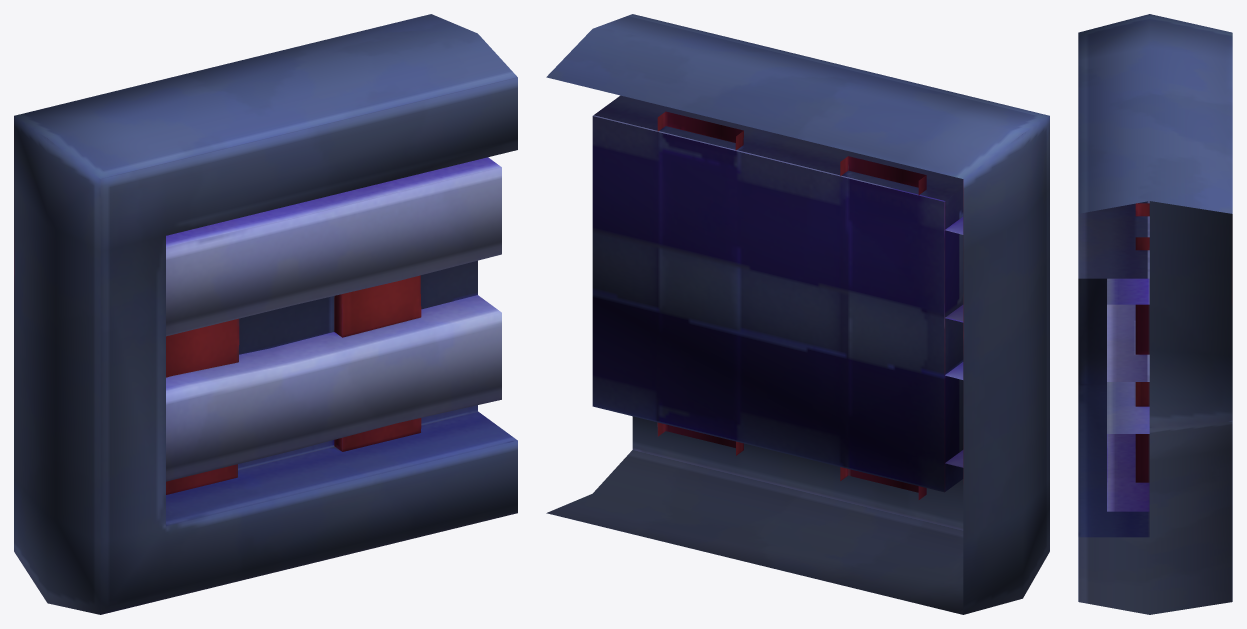
The model's file is LP_LaserRailStart.fbx.
3 renders of one model, left to right at view 1: azimuth 30°, elevation 25°; view 2: azimuth 150°, elevation 25°; view 3: azimuth 270°, elevation 25°, orthographic. The views are drawn at different scales.
Parts seen in each view (by area): view 1: LP_LaserRailStart; view 2: LP_LaserRailStart; view 3: LP_LaserRailStart.
Part boxes in pixels (x1=…): LP_LaserRailStart: x1=14, y1=14, x2=517, y2=614; LP_LaserRailStart: x1=546, y1=14, x2=1049, y2=614; LP_LaserRailStart: x1=1078, y1=14, x2=1232, y2=614.
Bounding box in the file's own units: 31 × 32 × 10.8.
